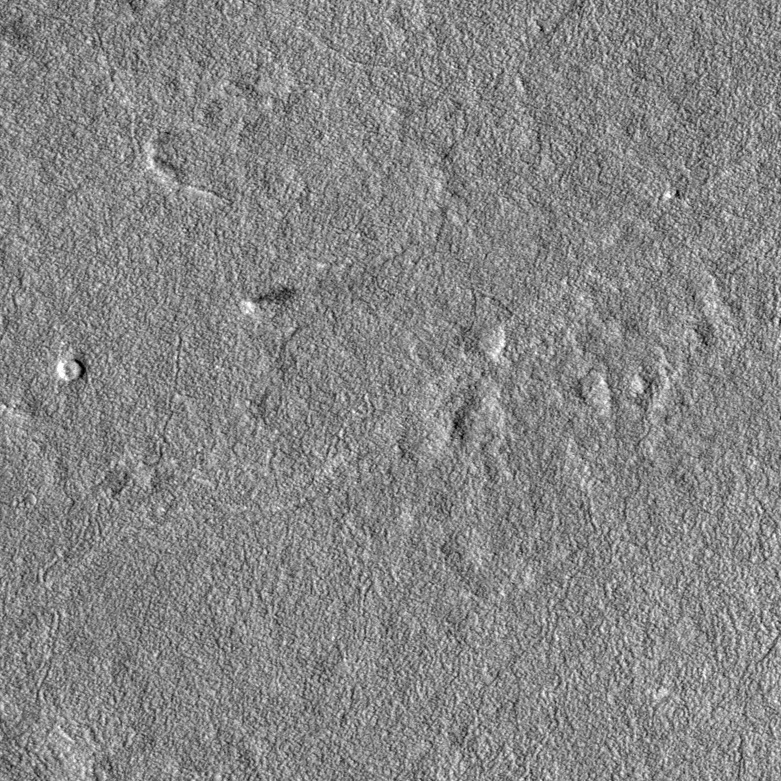dust_devil: (239, 285, 298, 317)
